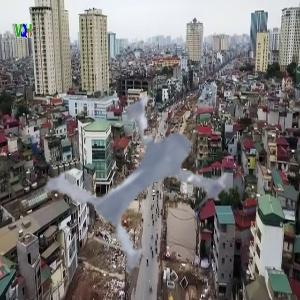drone: (48, 61, 262, 275)
